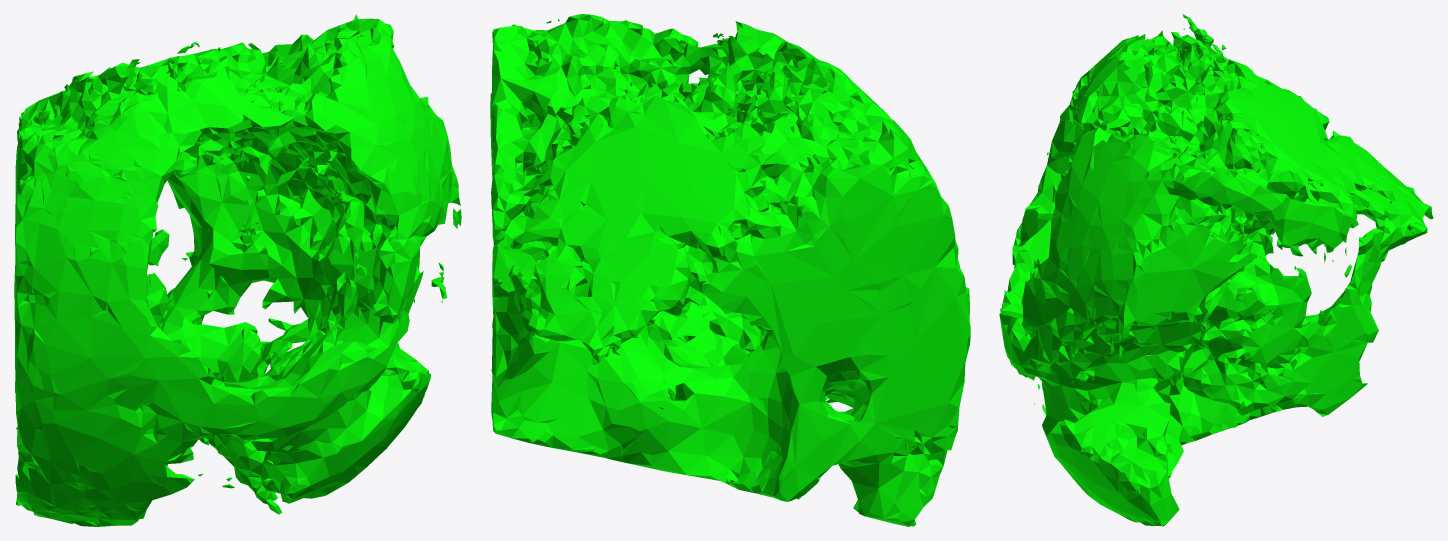
Rendered from B939XXXX-1_base_9.obj.
The picture shows the model from 3 angles, left to right: view 1: azimuth 30°, elevation 25°; view 2: azimuth 150°, elevation 25°; view 3: azimuth 270°, elevation 25°; orthographic projection. The views are drawn at different scales.
Visible parts, largest first — view 1: 9_base; view 2: 9_base; view 3: 9_base.
Part boxes in pixels (x1,y1,x2,y2): 9_base: (14, 14, 461, 526); 9_base: (490, 14, 970, 526); 9_base: (999, 14, 1433, 526).
Size of the model in its own units: 219 by 216 by 203.
